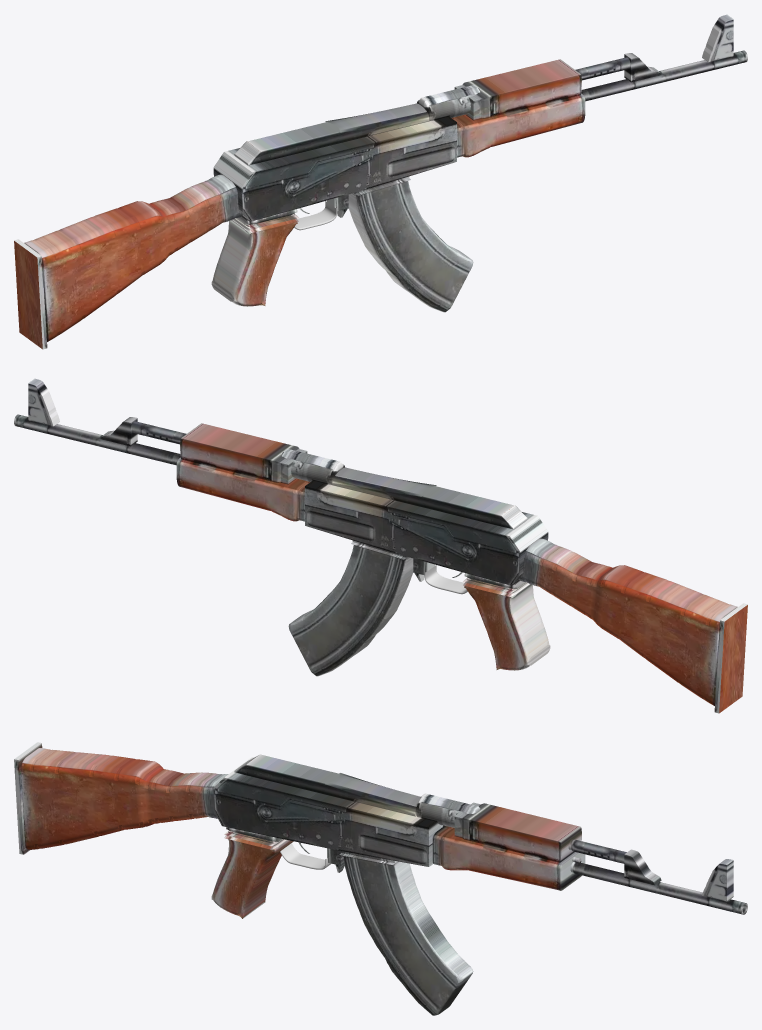
3 renders of one model, top to bottom at view 1: azimuth 30°, elevation 25°; view 2: azimuth 150°, elevation 25°; view 3: azimuth 330°, elevation 25°, orthographic.
Parts seen in each view (by area): view 1: Cube.004, NurbsPath; view 2: Cube.004, NurbsPath; view 3: Cube.004, NurbsPath.
Part boxes in pixels (bbox=[...]): Cube.004: bbox=[14, 14, 747, 349]; NurbsPath: bbox=[294, 201, 337, 230]; Cube.004: bbox=[14, 378, 747, 713]; NurbsPath: bbox=[424, 565, 467, 594]; Cube.004: bbox=[14, 742, 747, 1015]; NurbsPath: bbox=[280, 843, 330, 869].
Size of the model in its own units: 4.92 by 1.44 by 0.3323.
1 material, 1 textured.
